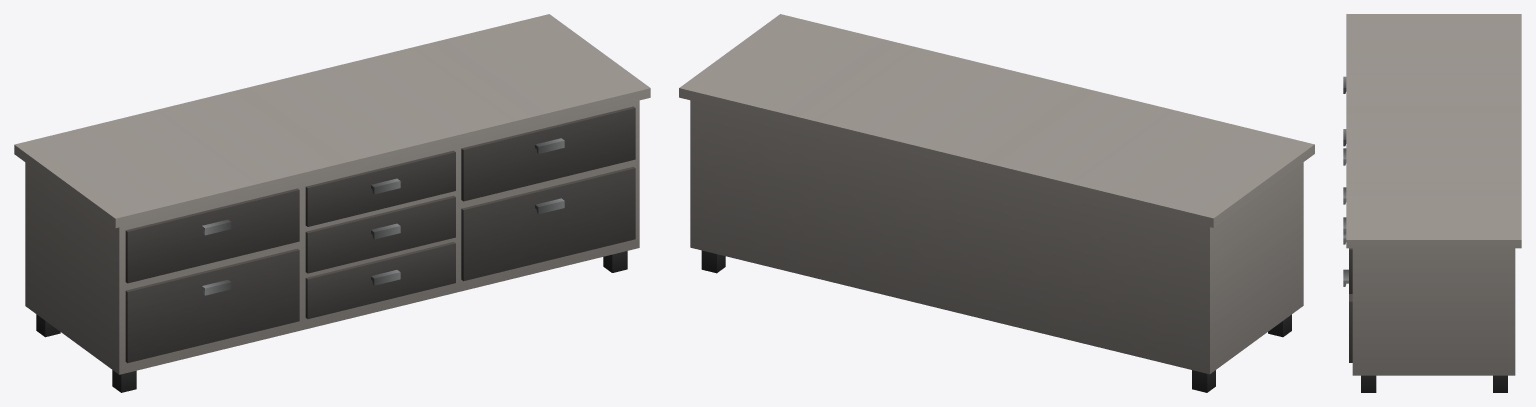
Rendered from SideboardCabinet_B_GreyBlack.fbx.
3 views of the same model, side by side, from view 1: azimuth 30°, elevation 25°; view 2: azimuth 150°, elevation 25°; view 3: azimuth 270°, elevation 25° (orthographic). The views are drawn at different scales.
Parts seen in each view (by area): view 1: SideboardCabinet_B_GreyBlack; view 2: SideboardCabinet_B_GreyBlack; view 3: SideboardCabinet_B_GreyBlack.
Part boxes in pixels (<box>): SideboardCabinet_B_GreyBlack: <box>14,14,650,392</box>; SideboardCabinet_B_GreyBlack: <box>679,14,1314,392</box>; SideboardCabinet_B_GreyBlack: <box>1343,14,1521,392</box>.
Size of the model in its own units: 244 by 80.14 by 81.41.
